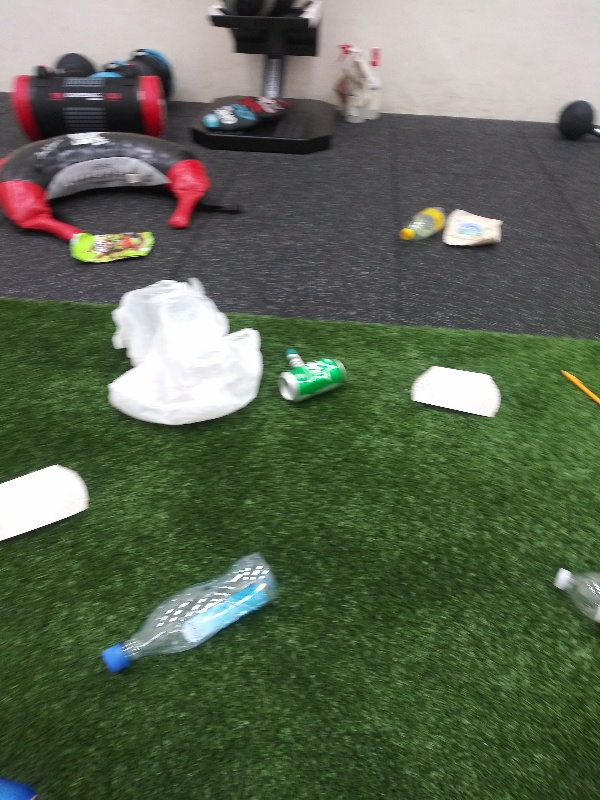bag: (67, 226, 160, 263), (438, 204, 507, 252)
bottle: (98, 548, 284, 675), (550, 560, 600, 630), (392, 201, 453, 246)
can: (277, 357, 351, 406)
plate: (1, 464, 94, 546), (407, 363, 504, 423)
